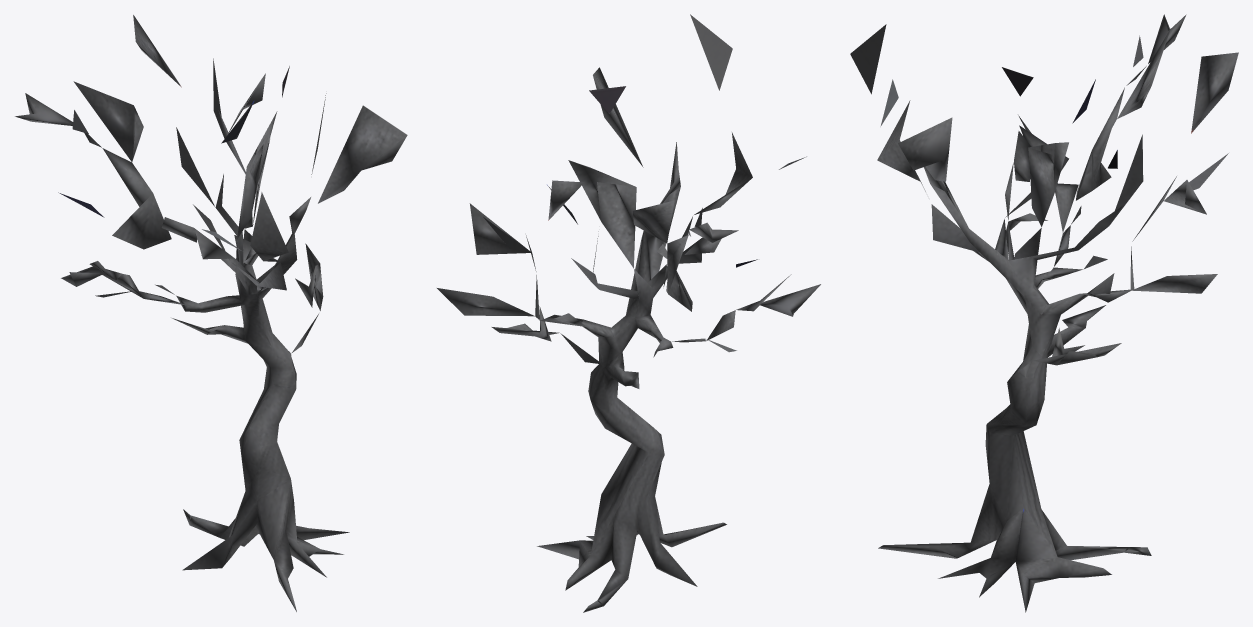
The model's file is tree-dead-01.glb.
3 renders of one model, left to right at view 1: azimuth 30°, elevation 25°; view 2: azimuth 150°, elevation 25°; view 3: azimuth 270°, elevation 25°, orthographic. The views are drawn at different scales.
Size of the model in its own units: 0.5757 by 0.9541 by 0.6191.
1 material, 1 textured.
